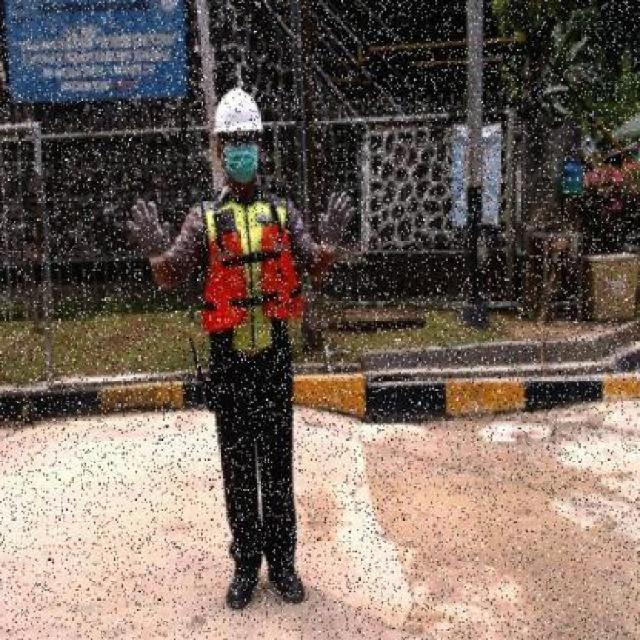Boots: (263, 552, 308, 610), (225, 547, 262, 608)
Gloves: (124, 197, 174, 268), (313, 189, 358, 256)
Helmet: (209, 87, 266, 135)
Mask: (218, 148, 264, 185)
Protective Glasses: (218, 129, 260, 149)
Vest: (204, 220, 307, 334)
